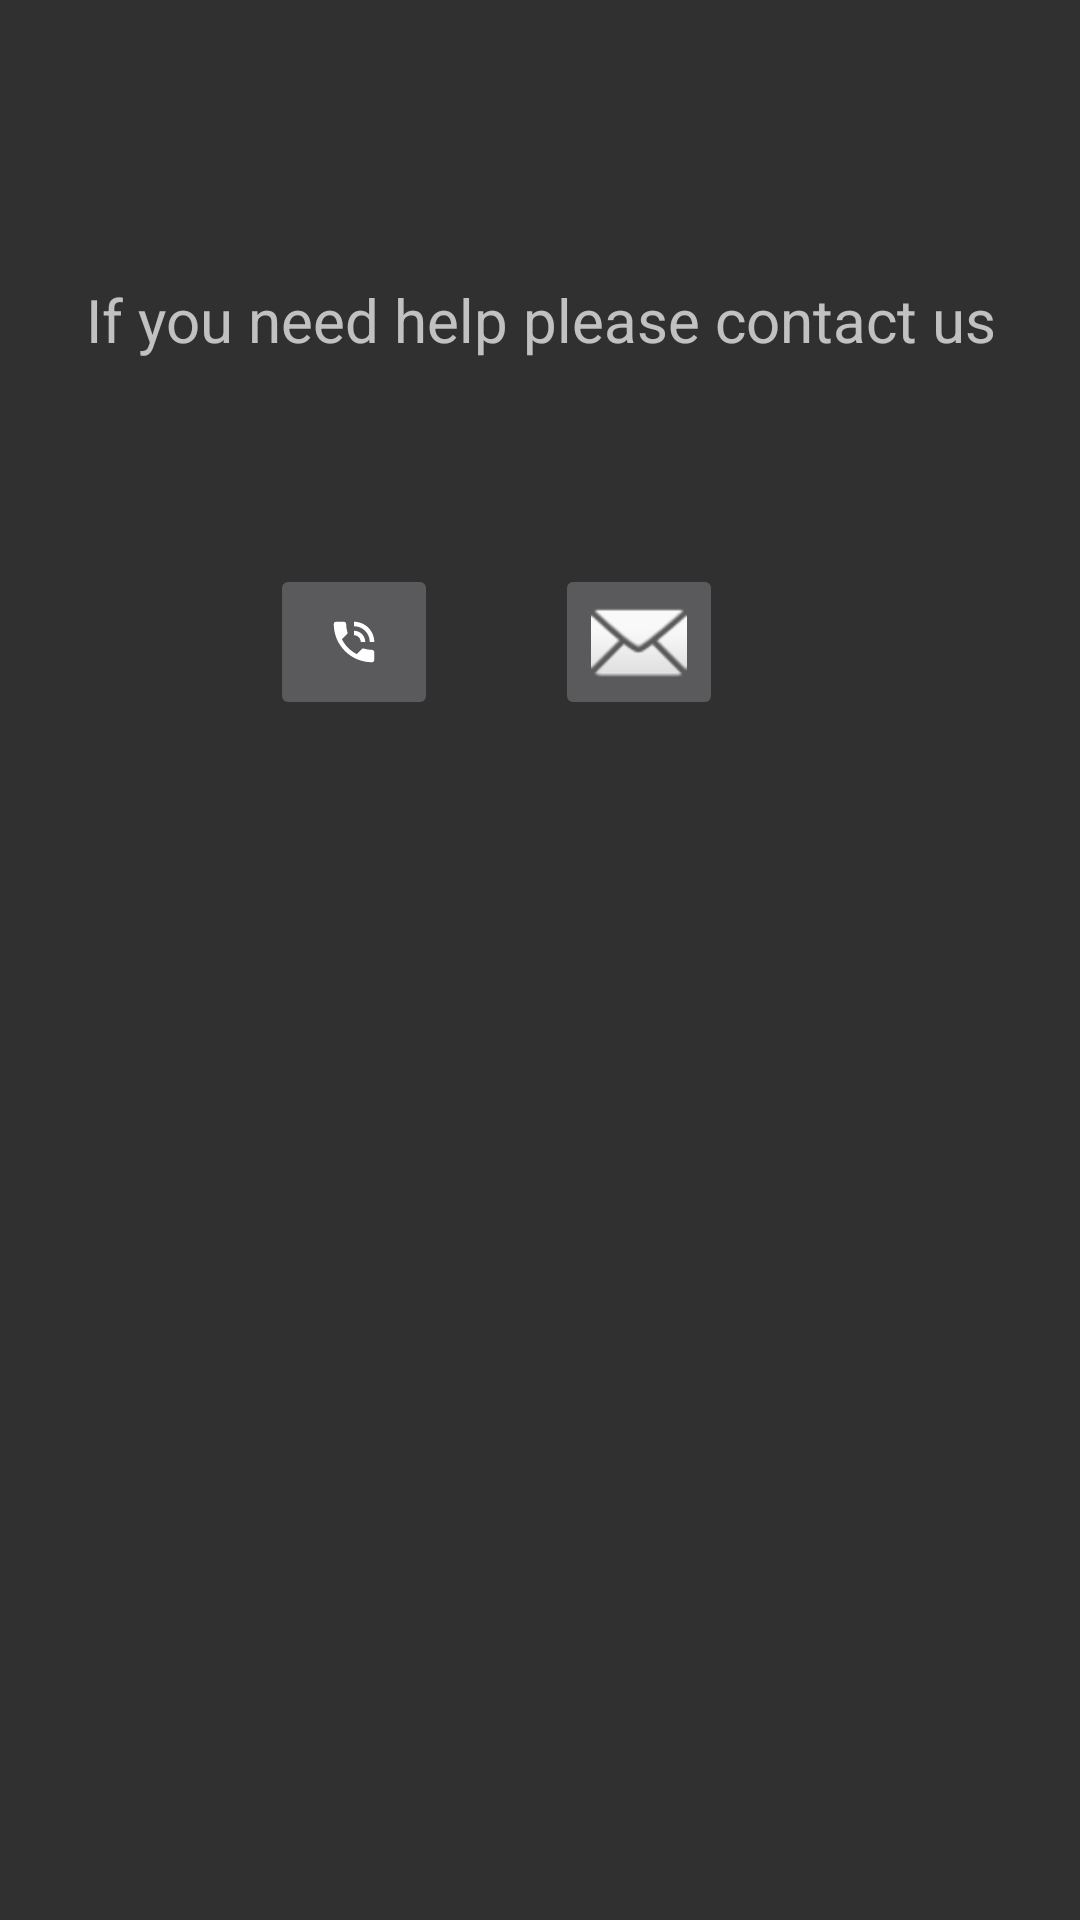

Icon click points for this 1080 × 1920 phone screenshot, format (x=x, y=y):
email: (x=639, y=642)
